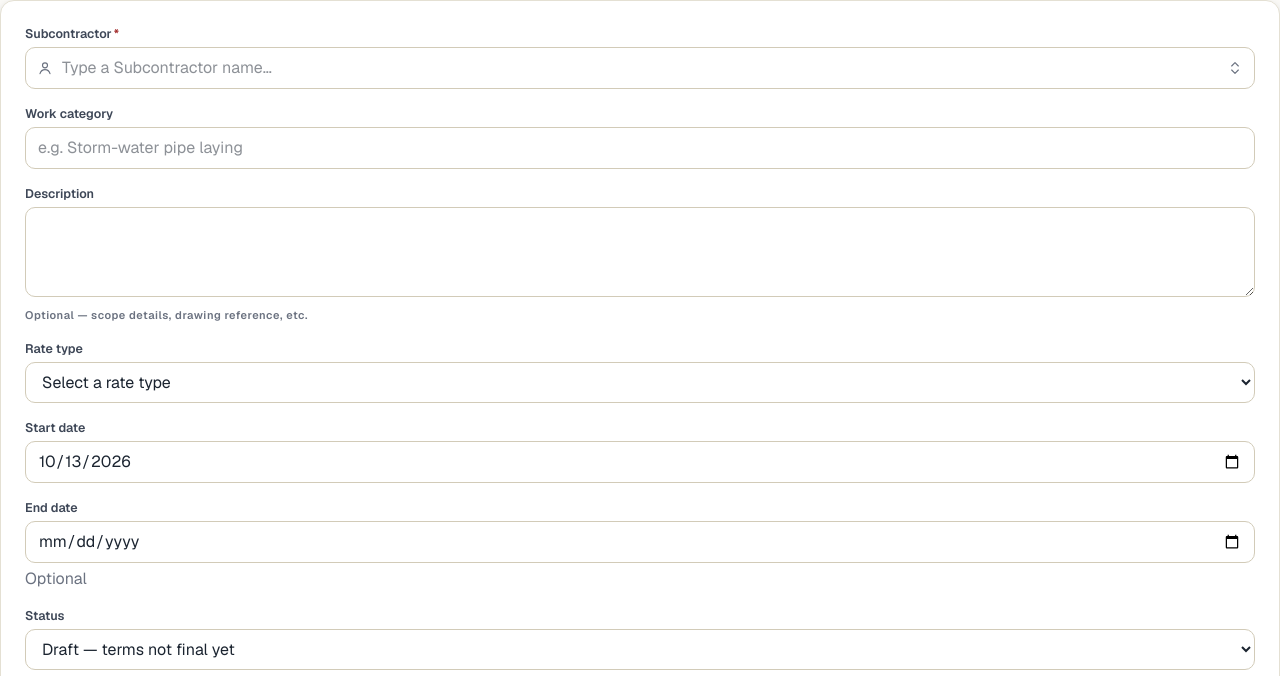
Test: SiteContractForm › shows the Unit label field only for Per Unit / Custom rate types
Step 1. Select "Per Pipe" in the dropdown labelled "Rate type" → (640, 382), box [25,362,1255,403]
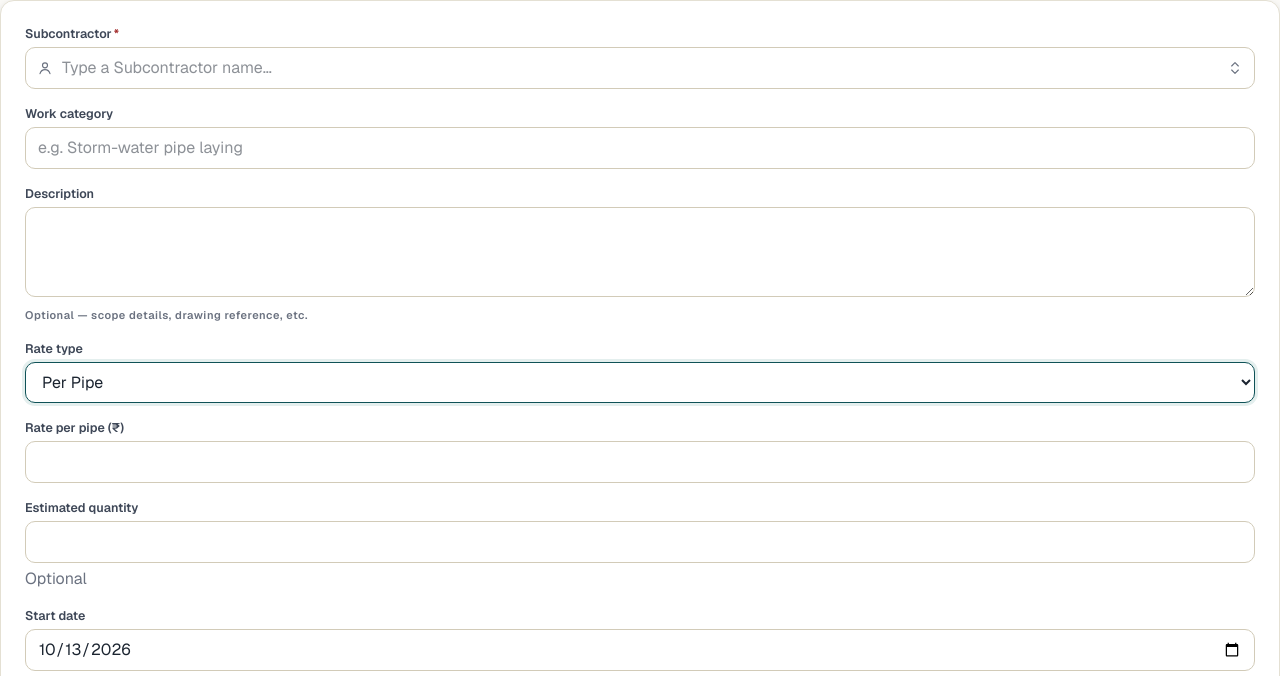
Step 2. Select "Per Unit" in the dropdown labelled "Rate type" → (640, 382), box [25,362,1255,403]
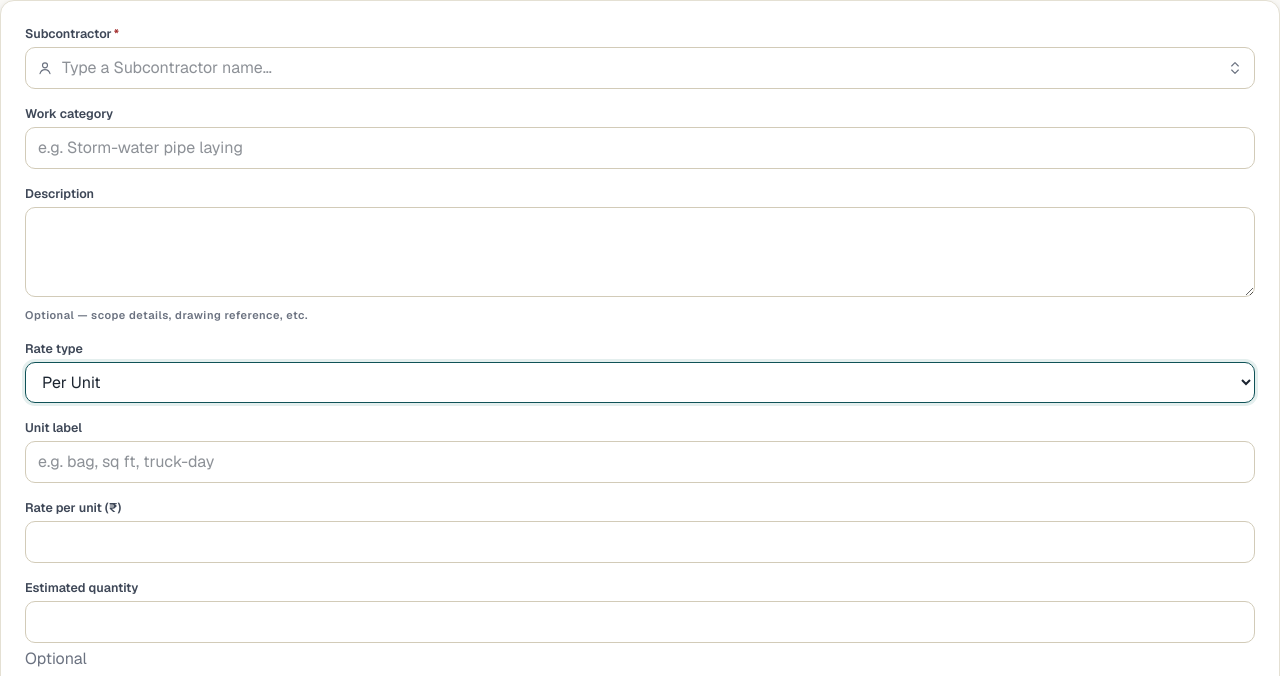
Expected: the field labelled "Unit label" is enabled, [25,441,1255,483]
